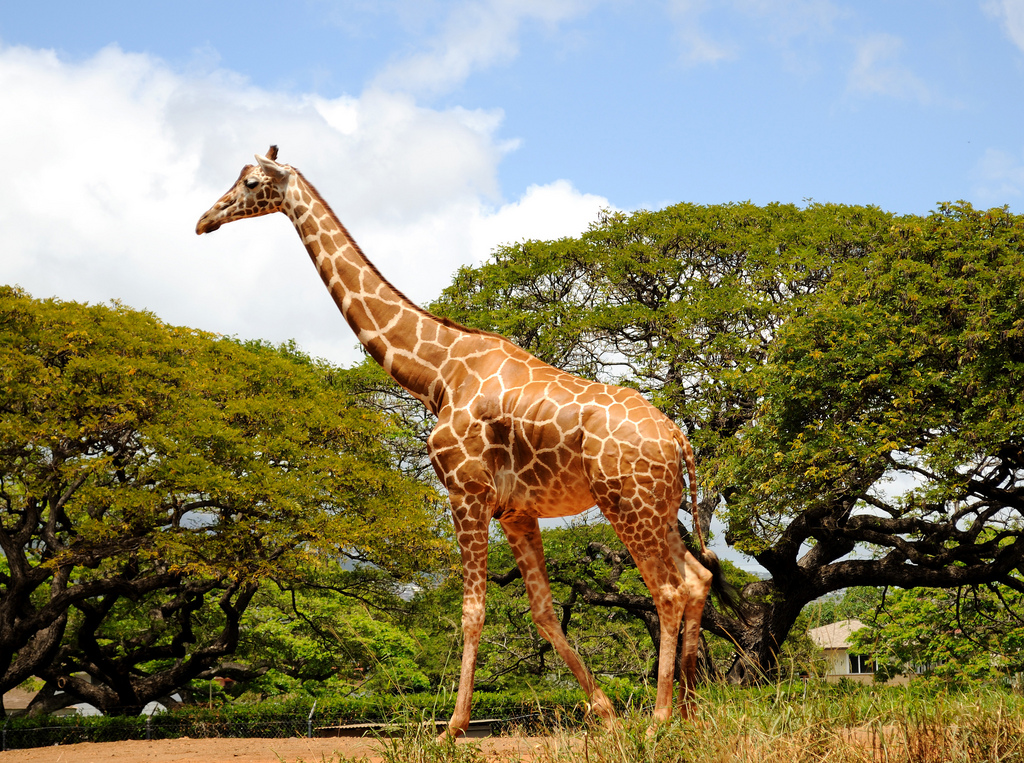giraffe: (150, 124, 744, 734)
